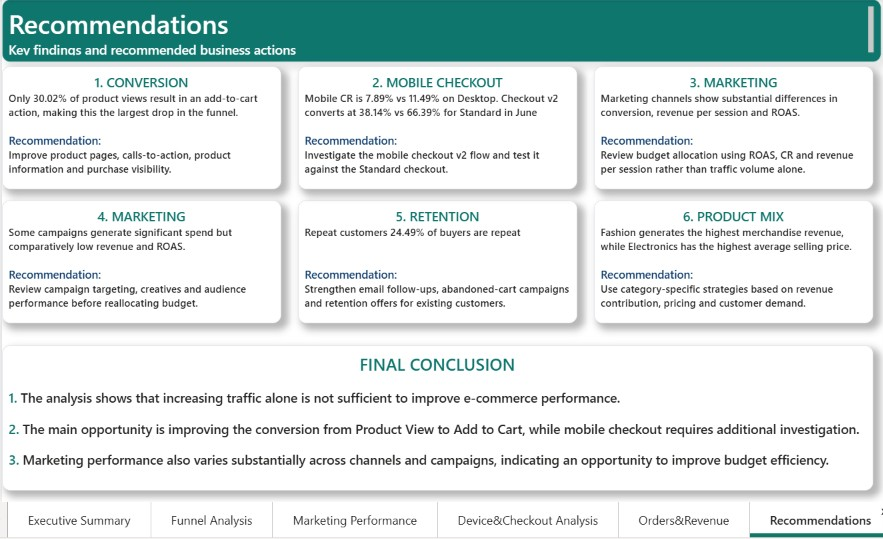

What the dashboard file says about the page in this screenshot:
{"tool":"powerbi","page":{"name":"Recommendations","canvas":[1280,720],"ordinal":5},"visuals":[{"type":"textbox","box":[0,0,1259,90],"z":0},{"type":"textbox","box":[0,496,1248,208],"z":1000},{"type":"textbox","box":[0,96,400,176],"z":2000},{"type":"textbox","box":[848,96,400,176],"z":3000},{"type":"textbox","box":[0,288,400,176],"z":4000},{"type":"textbox","box":[424,288,400,176],"z":5000},{"type":"textbox","box":[848,288,400,176],"z":6000},{"type":"textbox","box":[424,96,400,176],"z":7000}]}

Visuals, with their boxes on the page's 1280x720 design canvas (x1, y1, x2, y2). These are canvas units, not pixel positions in the 883x539 screenshot, which may show the page scaled, cropped or inside an application window:
textbox: {"left": 0, "top": 0, "right": 1259, "bottom": 90}
textbox: {"left": 0, "top": 496, "right": 1248, "bottom": 704}
textbox: {"left": 0, "top": 96, "right": 400, "bottom": 272}
textbox: {"left": 848, "top": 96, "right": 1248, "bottom": 272}
textbox: {"left": 0, "top": 288, "right": 400, "bottom": 464}
textbox: {"left": 424, "top": 288, "right": 824, "bottom": 464}
textbox: {"left": 848, "top": 288, "right": 1248, "bottom": 464}
textbox: {"left": 424, "top": 96, "right": 824, "bottom": 272}
